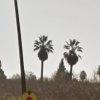Palm tree: (32, 26, 88, 80)
